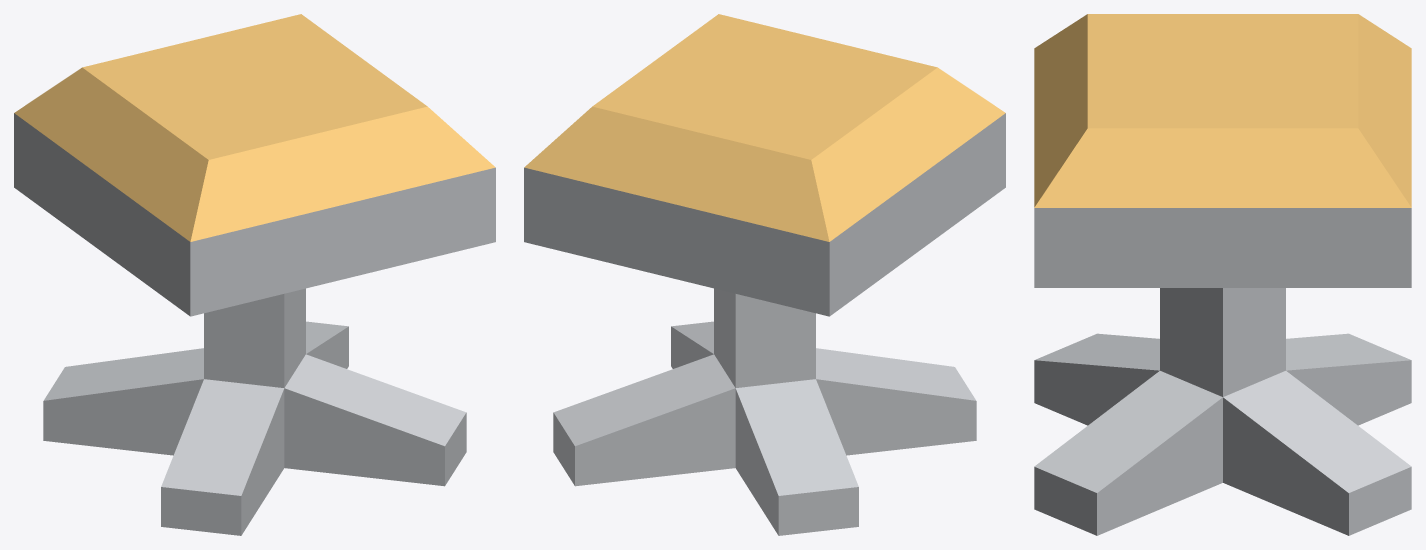
Rendered from desk_chairStool.glb.
3 views of the same model, side by side, from view 1: azimuth 30°, elevation 25°; view 2: azimuth 150°, elevation 25°; view 3: azimuth 270°, elevation 25° (orthographic). The views are drawn at different scales.
Visible parts, largest first — view 1: desk_chairStool; view 2: desk_chairStool; view 3: desk_chairStool.
Part boxes in pixels (<box>): desk_chairStool: <box>14,14,495,535</box>; desk_chairStool: <box>524,14,1005,535</box>; desk_chairStool: <box>1034,14,1411,535</box>.
Size of the model in its own units: 0.15 by 0.1687 by 0.15.
